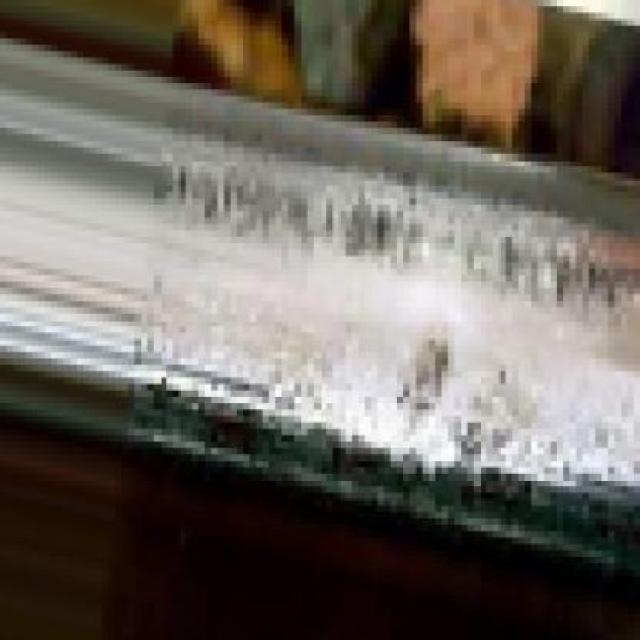defective: (0, 22, 640, 602)
